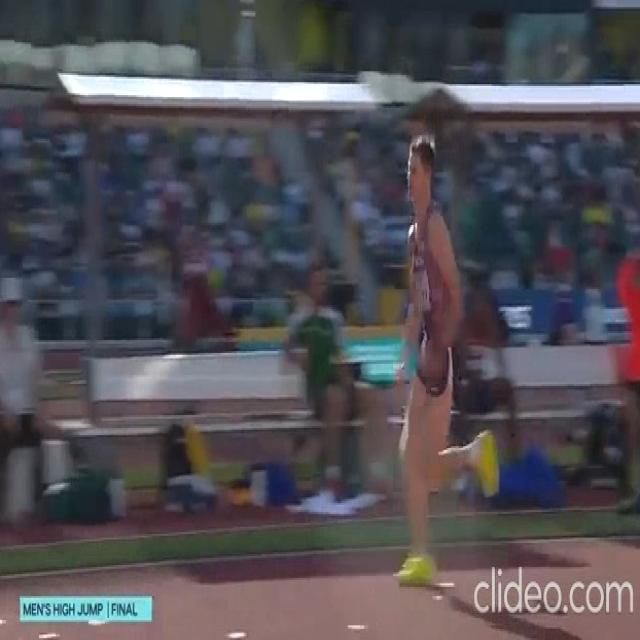run: (393, 139, 498, 583)
